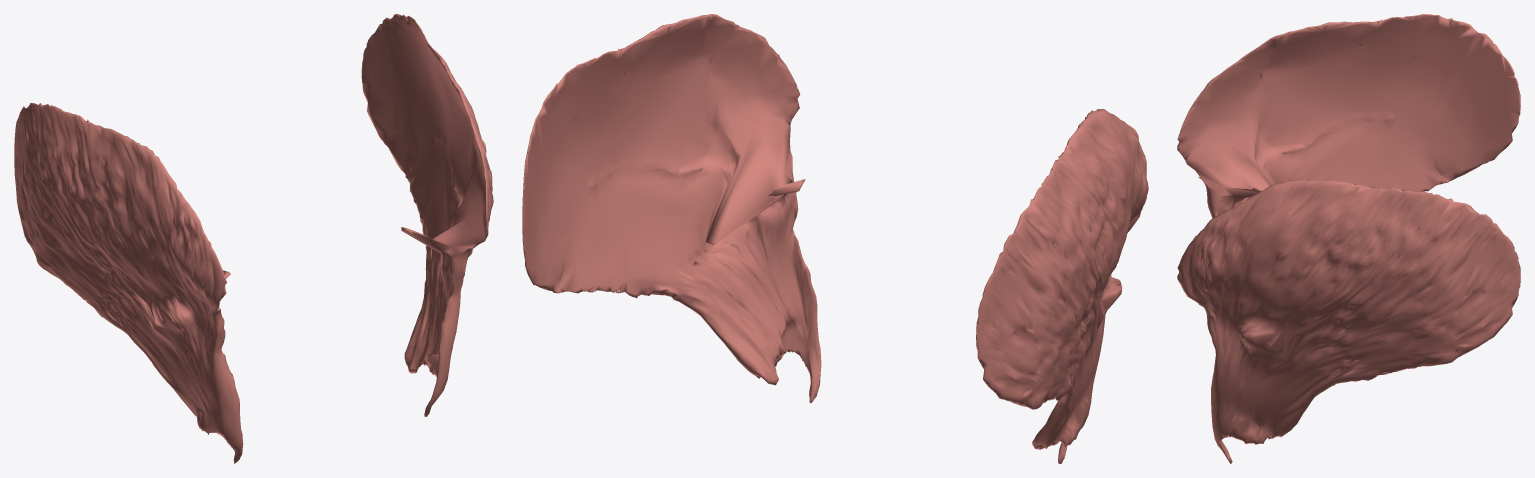
Rendered from temporalis.glb.
3 views of the same model, side by side, from view 1: azimuth 30°, elevation 25°; view 2: azimuth 150°, elevation 25°; view 3: azimuth 270°, elevation 25° (orthographic). The views are drawn at different scales.
Parts seen in each view (by area): view 1: temporalis_R, temporalis_L; view 2: temporalis_L, temporalis_R; view 3: temporalis_L, temporalis_R.
Part boxes in pixels (x1=…): temporalis_R: x1=14, y1=103, x2=243, y2=463; temporalis_L: x1=361, y1=14, x2=493, y2=416; temporalis_L: x1=522, y1=14, x2=821, y2=402; temporalis_R: x1=976, y1=109, x2=1148, y2=463; temporalis_L: x1=1177, y1=179, x2=1520, y2=463; temporalis_R: x1=1177, y1=14, x2=1520, y2=218.
Bounding box in the file's own units: 0.1586 × 0.1194 × 0.1182.
